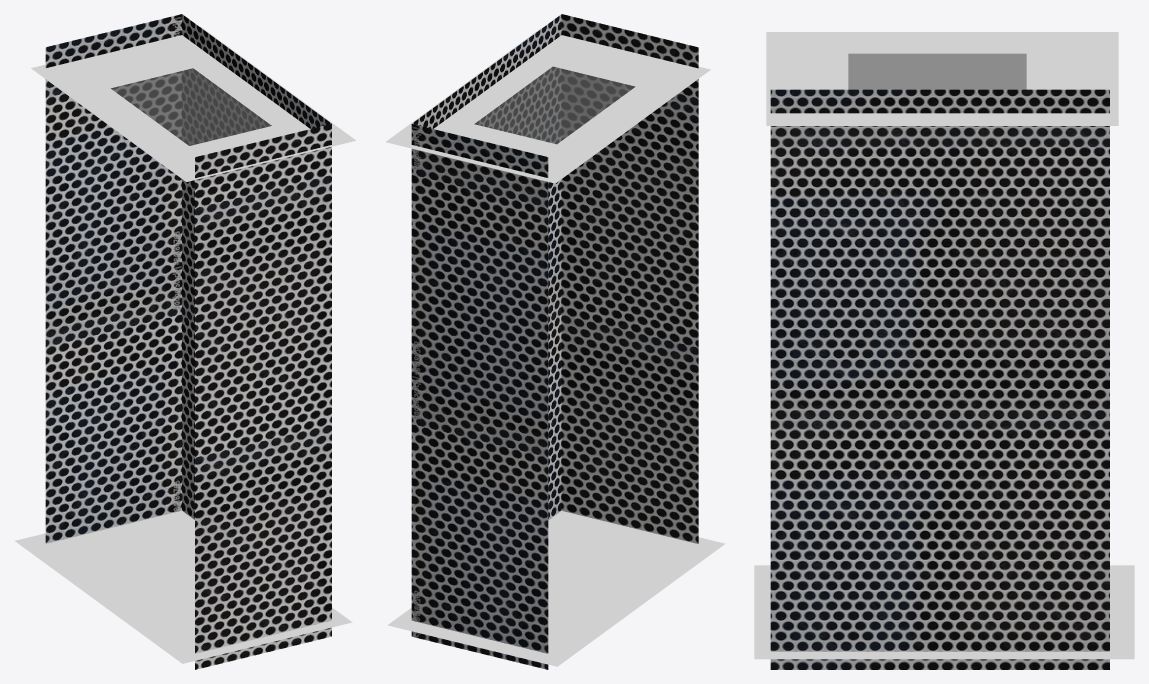
Rendered from Polka_back.fbx.
The picture shows the model from 3 angles, left to right: view 1: azimuth 30°, elevation 25°; view 2: azimuth 150°, elevation 25°; view 3: azimuth 270°, elevation 25°; orthographic projection. The views are drawn at different scales.
Parts seen in each view (by area): view 1: Плоскость.003, desirefx.me_021.007, desirefx.me_021.008; view 2: Плоскость.003, desirefx.me_021.007, desirefx.me_021.008; view 3: Плоскость.003, desirefx.me_021.007, desirefx.me_021.008.
Part boxes in pixels (box(x1,y1,x2,y2)): Плоскость.003: box(45, 14, 331, 669); desirefx.me_021.007: box(31, 26, 355, 181); desirefx.me_021.008: box(15, 510, 352, 663); Плоскость.003: box(411, 14, 698, 669); desirefx.me_021.007: box(385, 28, 710, 183); desirefx.me_021.008: box(388, 511, 725, 666); Плоскость.003: box(770, 89, 1109, 669); desirefx.me_021.007: box(766, 32, 1118, 125); desirefx.me_021.008: box(754, 565, 1134, 659).
Size of the model in its own units: 4.17 by 11.41 by 6.78.
